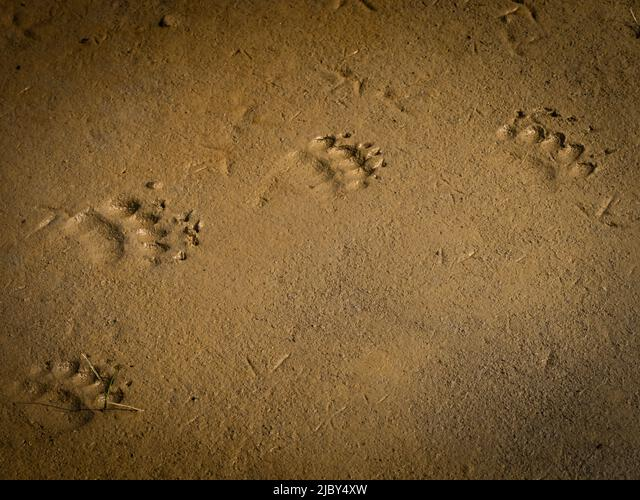bear: (474, 88, 631, 222), (63, 180, 208, 277), (273, 116, 395, 223), (29, 346, 146, 437)
